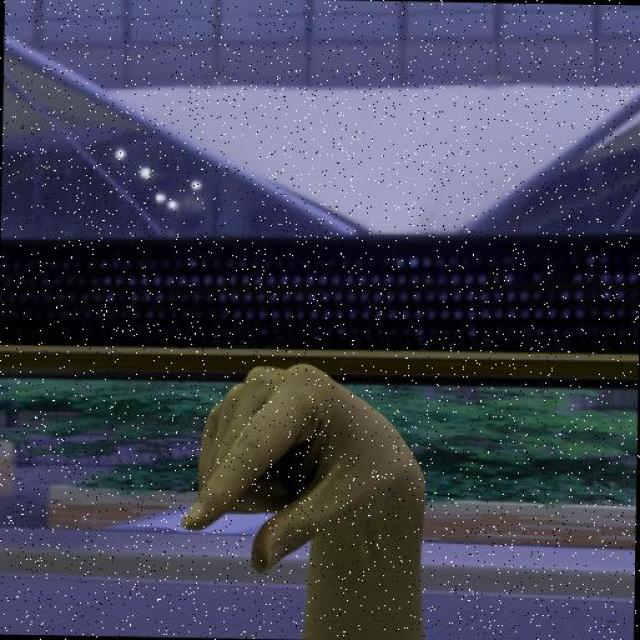Q: (175, 356, 435, 582)
